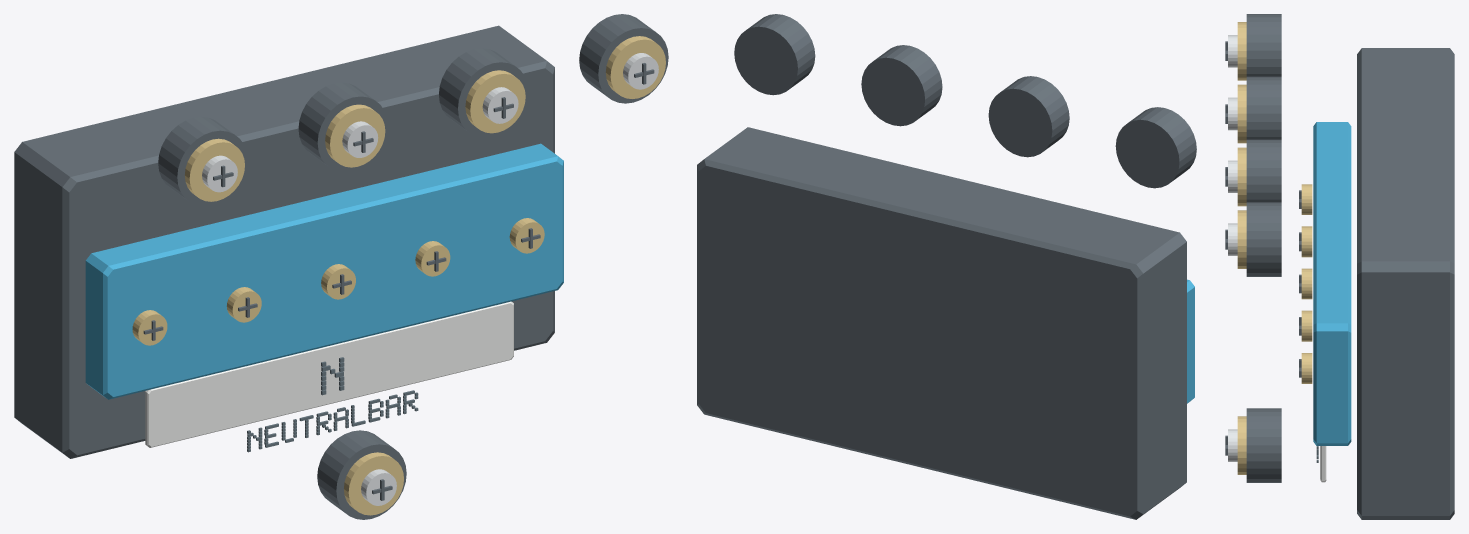
The model's file is neutralBar.glb.
3 renders of one model, left to right at view 1: azimuth 30°, elevation 25°; view 2: azimuth 150°, elevation 25°; view 3: azimuth 270°, elevation 25°, orthographic. The views are drawn at different scales.
Parts seen in each view (by area): view 1: neutralBar-detailed; view 2: neutralBar-detailed; view 3: neutralBar-detailed.
Boxes of the visible parts, x1=… form: neutralBar-detailed: x1=14, y1=14, x2=668, y2=519; neutralBar-detailed: x1=697, y1=14, x2=1196, y2=519; neutralBar-detailed: x1=1225, y1=14, x2=1454, y2=519.
Size of the model in its own units: 2.42 by 1.81 by 0.9644.
